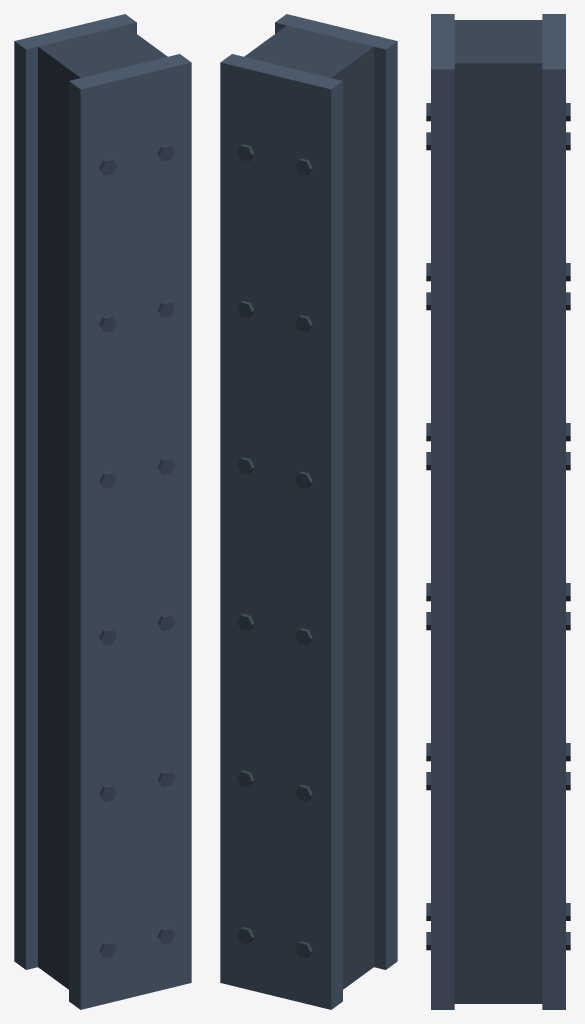
The model's file is WallPart_01.fbx.
3 views of the same model, side by side, from view 1: azimuth 30°, elevation 25°; view 2: azimuth 150°, elevation 25°; view 3: azimuth 270°, elevation 25° (orthographic). The views are drawn at different scales.
Visible parts, largest first — view 1: WallPart_01; view 2: WallPart_01; view 3: WallPart_01.
Boxes of the visible parts, box(x1,y1,x2,y2) form: WallPart_01: box(14, 14, 191, 1009); WallPart_01: box(220, 14, 397, 1009); WallPart_01: box(426, 14, 570, 1009).
Bounding box in the file's own units: 50.42 × 400 × 55.63.
